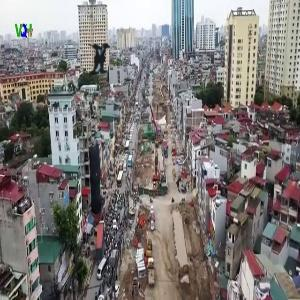drone: (47, 6, 154, 113)
